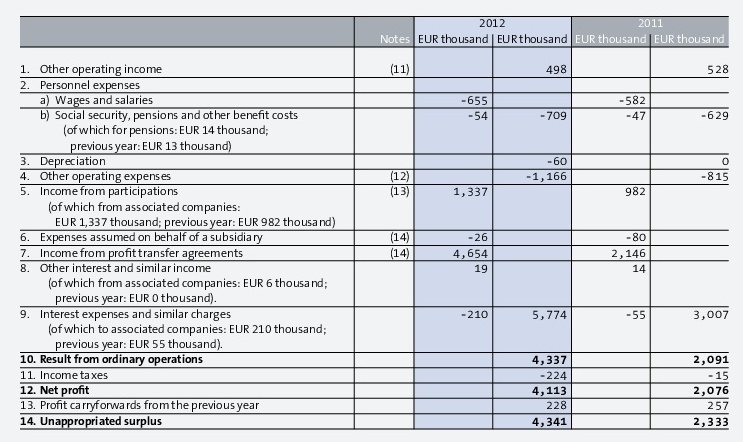table: (0, 0, 743, 442)
